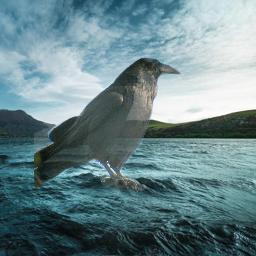Crow: (34, 56, 182, 191)
